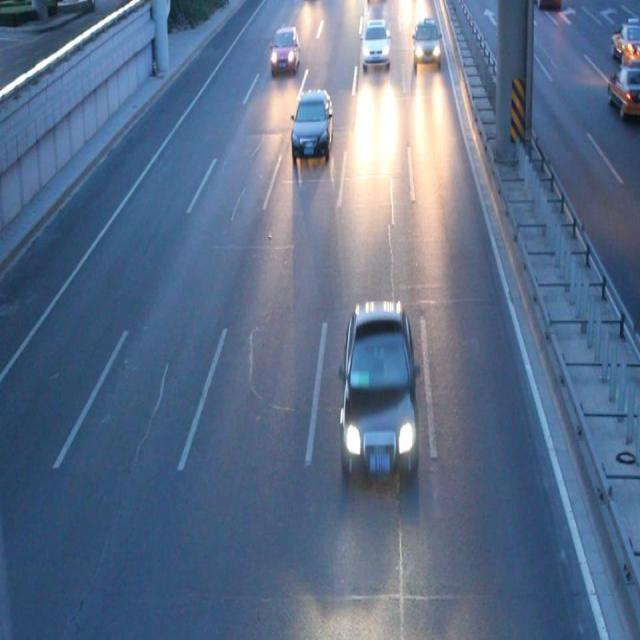car: (341, 303, 416, 473), (291, 87, 332, 154), (606, 62, 640, 119), (610, 19, 640, 64), (361, 20, 389, 64), (496, 16, 528, 54), (270, 28, 298, 70), (412, 21, 439, 63), (535, 1, 559, 11)
